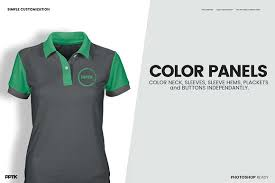S_polo shirt: (11, 36, 125, 181)
